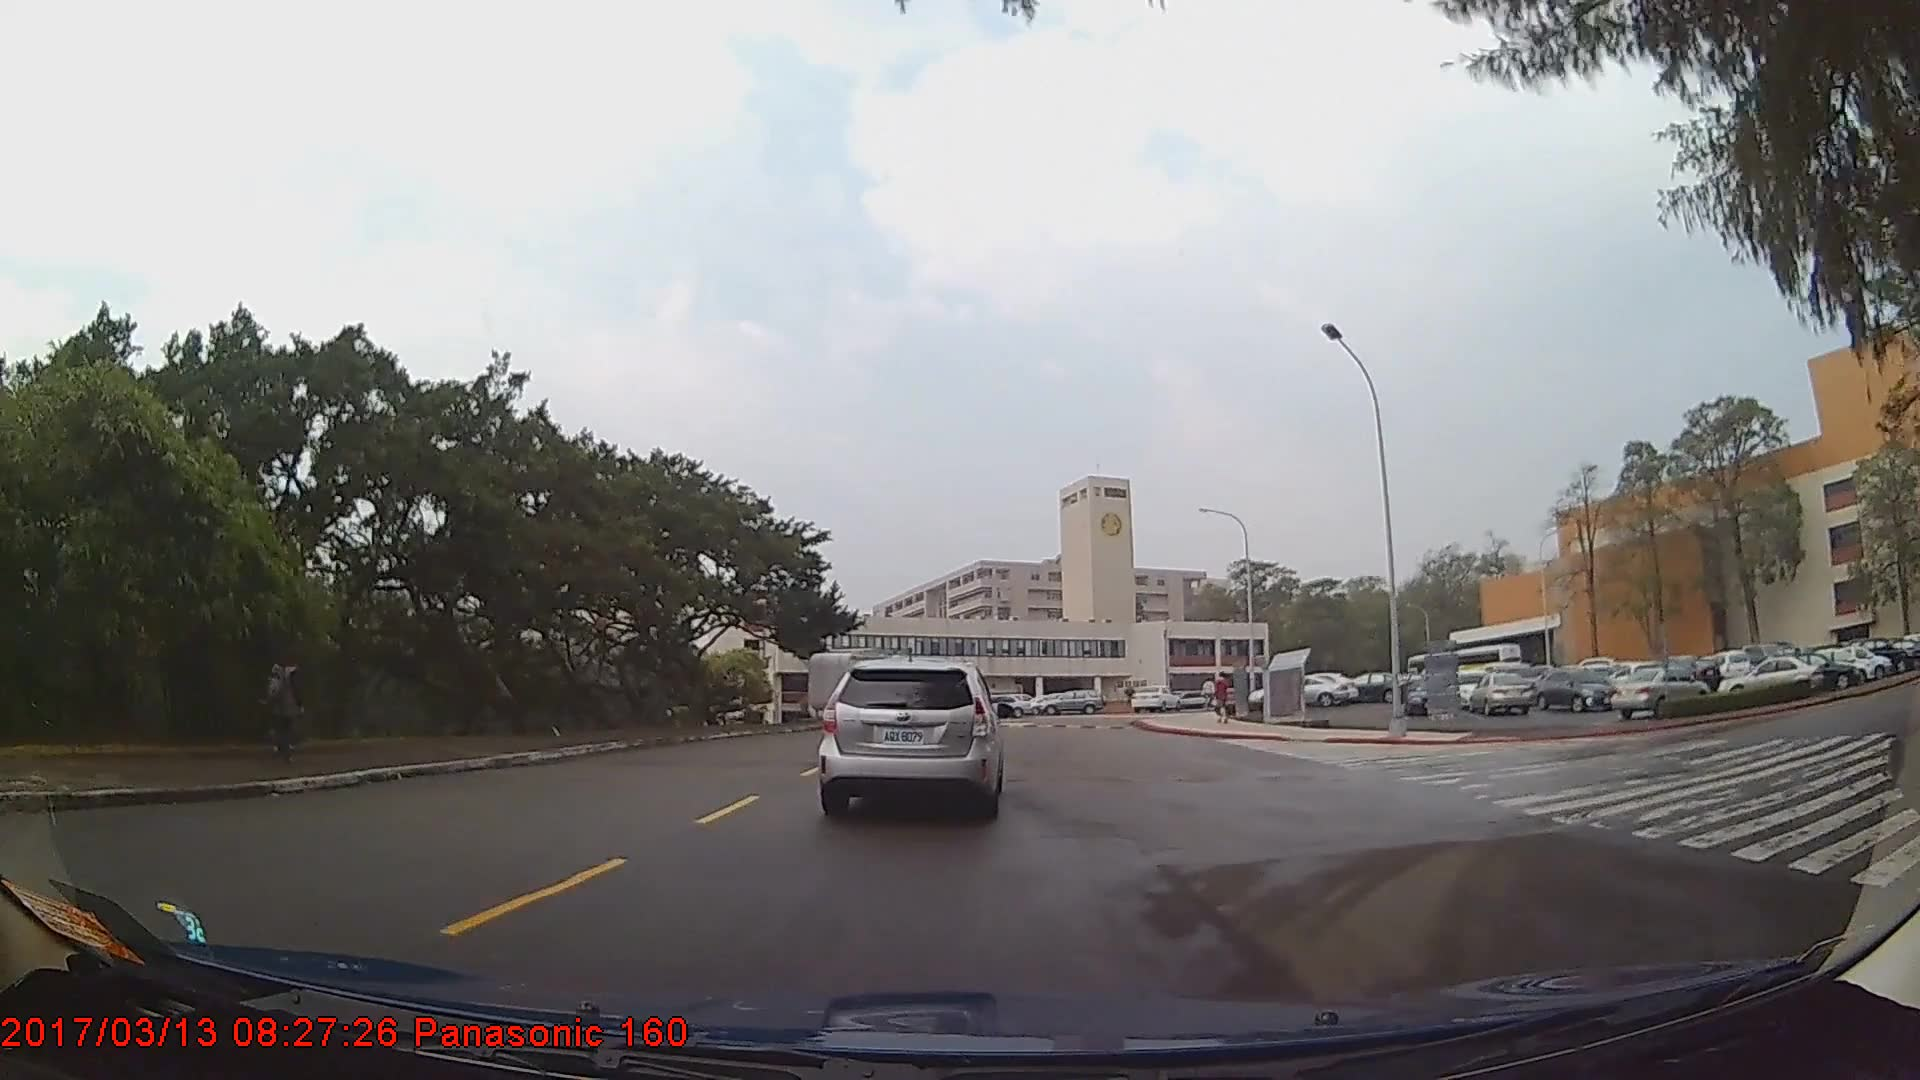pedestrian: (250, 647, 302, 764), (1212, 670, 1233, 724)
vehicle: (819, 658, 1000, 818), (1715, 652, 1821, 703), (1612, 664, 1707, 720), (1763, 648, 1859, 692), (1537, 665, 1618, 713), (1247, 674, 1343, 710), (1470, 671, 1532, 718), (1340, 670, 1407, 704), (1037, 688, 1106, 715), (1400, 676, 1444, 715), (1128, 685, 1177, 714), (975, 693, 1033, 718)
